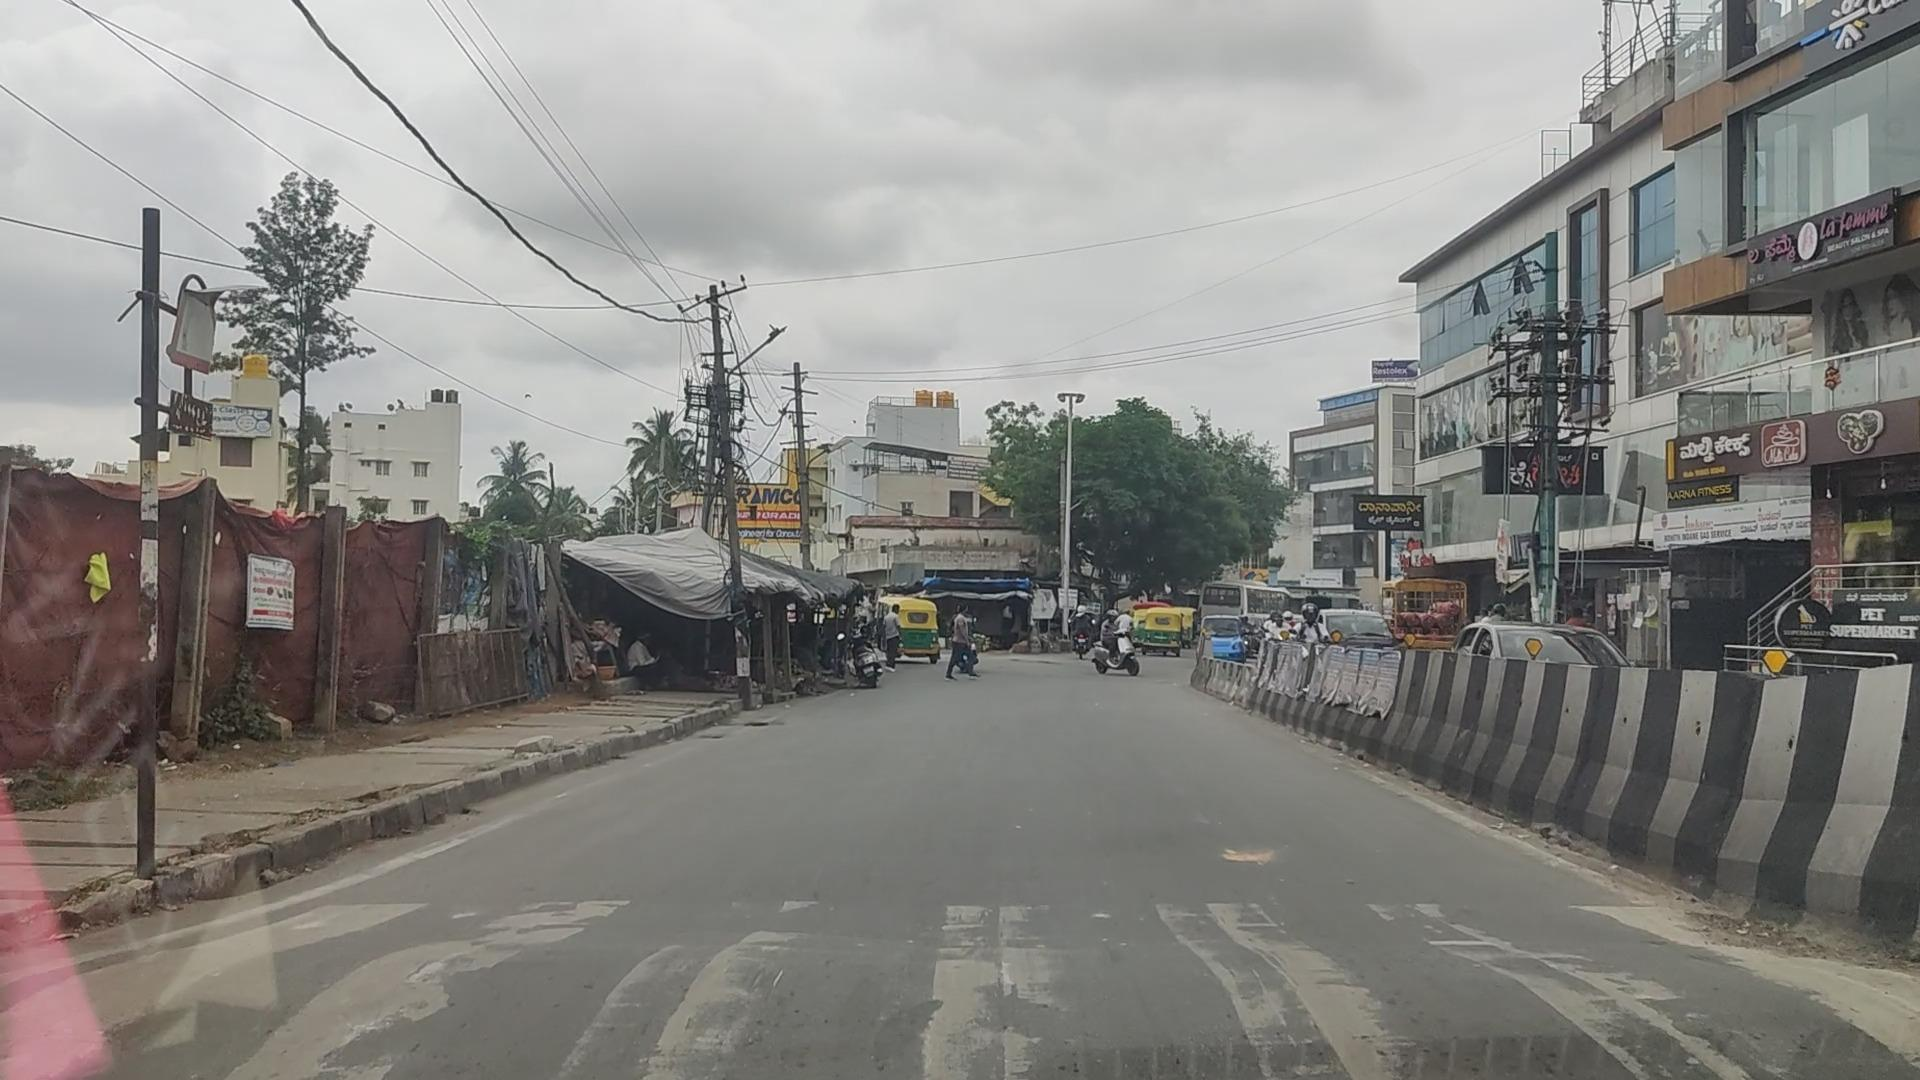SpeedBump: (102, 930, 1920, 1080)
